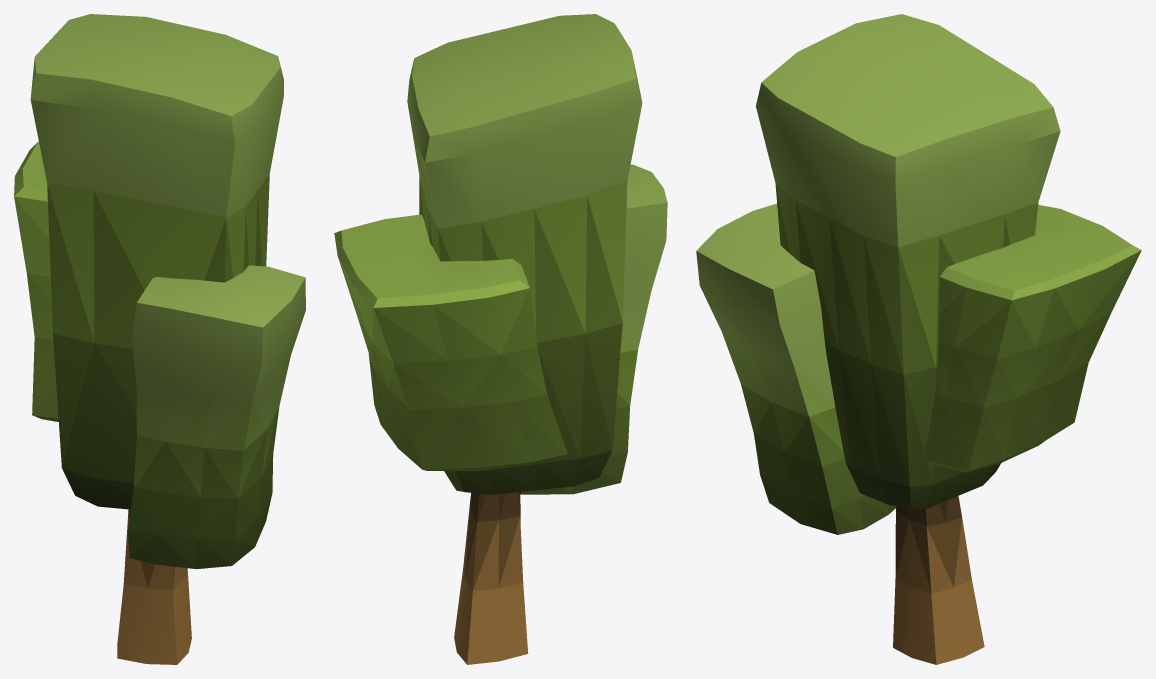
File: angular_tree_block__spring.glb
3 views of the same model, side by side, from view 1: azimuth 30°, elevation 25°; view 2: azimuth 150°, elevation 25°; view 3: azimuth 270°, elevation 25° (orthographic). The views are drawn at different scales.
Size of the model in its own units: 2.14 by 4.8 by 3.36.
